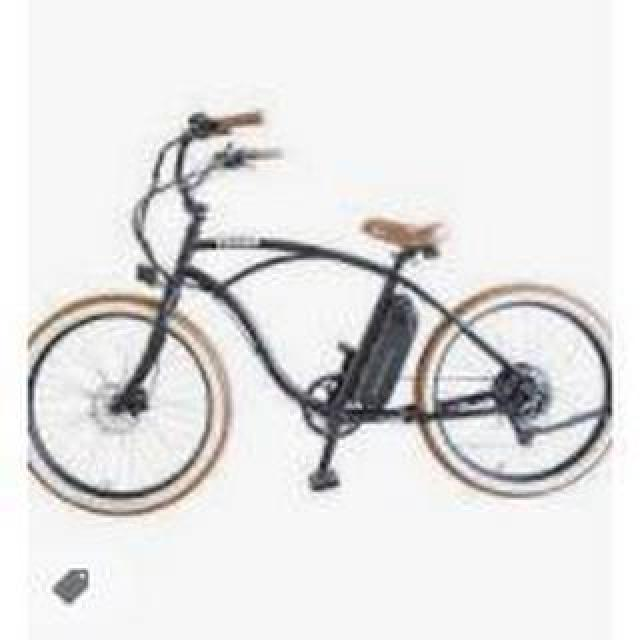Person: (23, 103, 613, 515)
